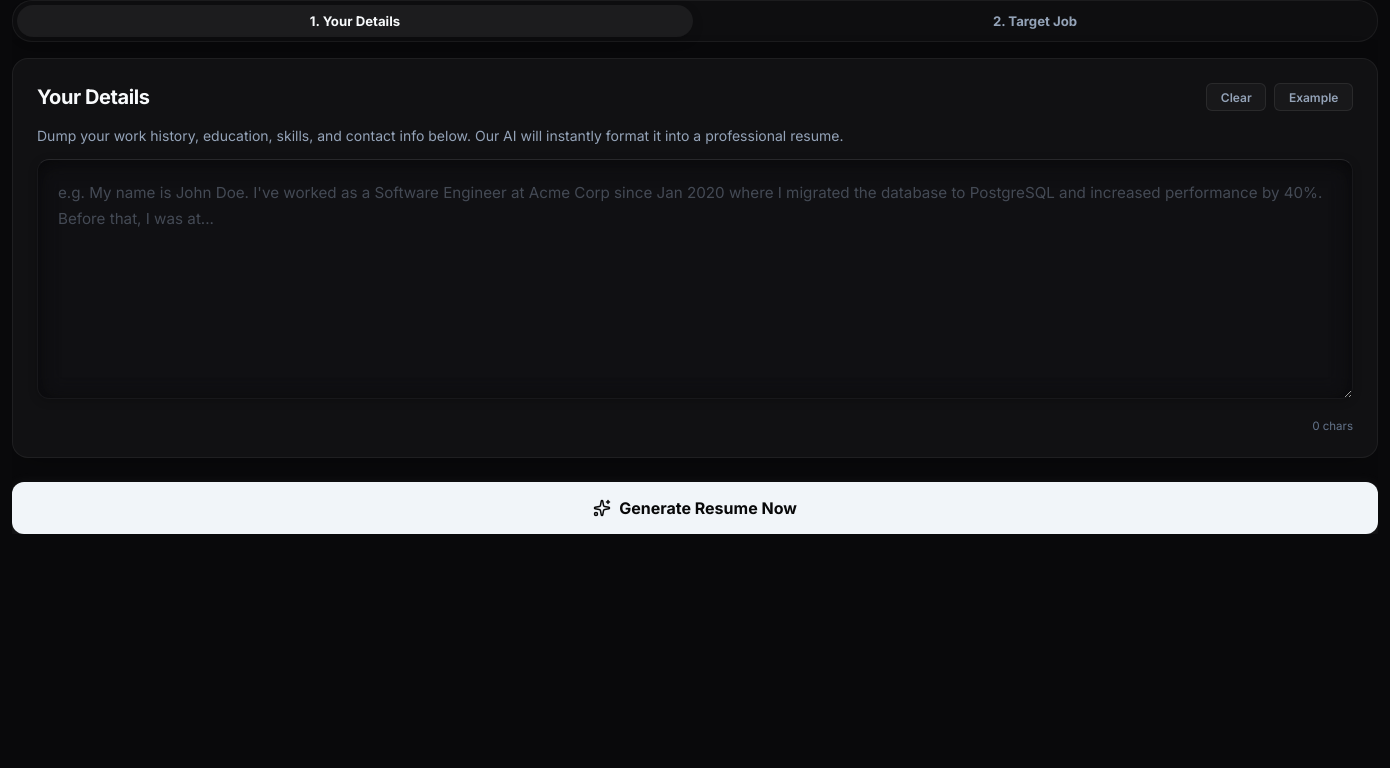
it: PromptInput Component › handles Clear and Example button click events
Click the button "Example": point(1314, 97) [1274,83,1353,111]
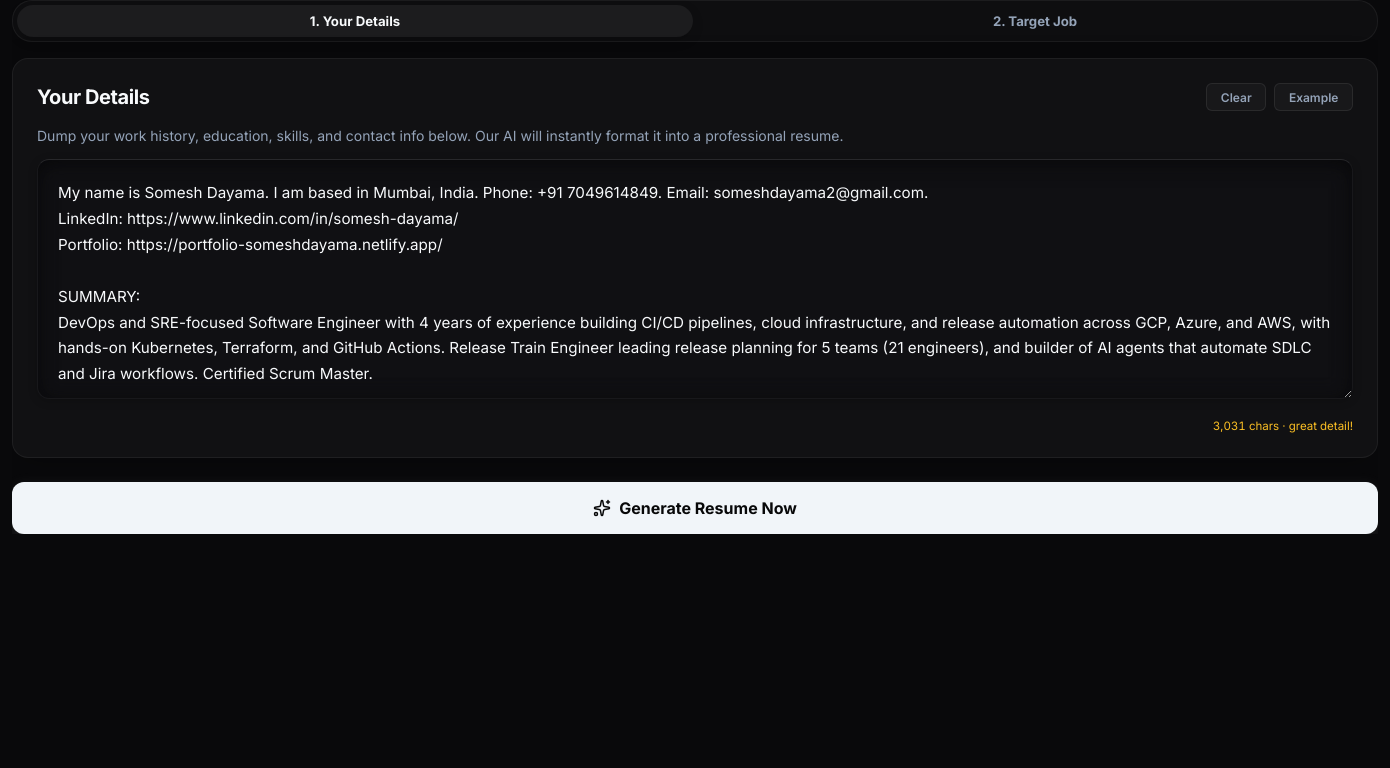
Click the button "Clear": point(1236, 97) [1206,83,1266,111]
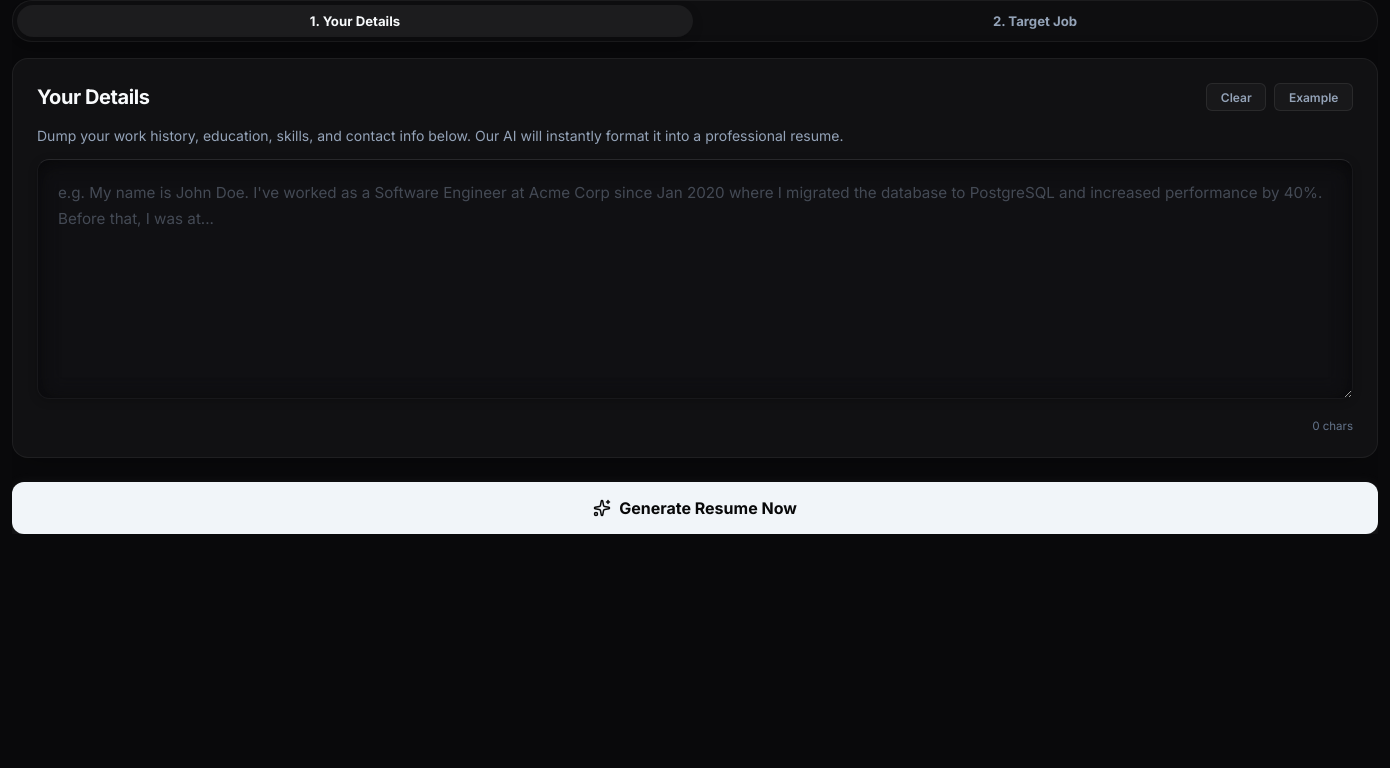
Expected: the text box with placeholder "e.g. My name is John Doe" is empty, [37,159,1353,399]
